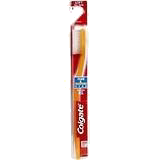grozi_103: (68, 0, 88, 160)
